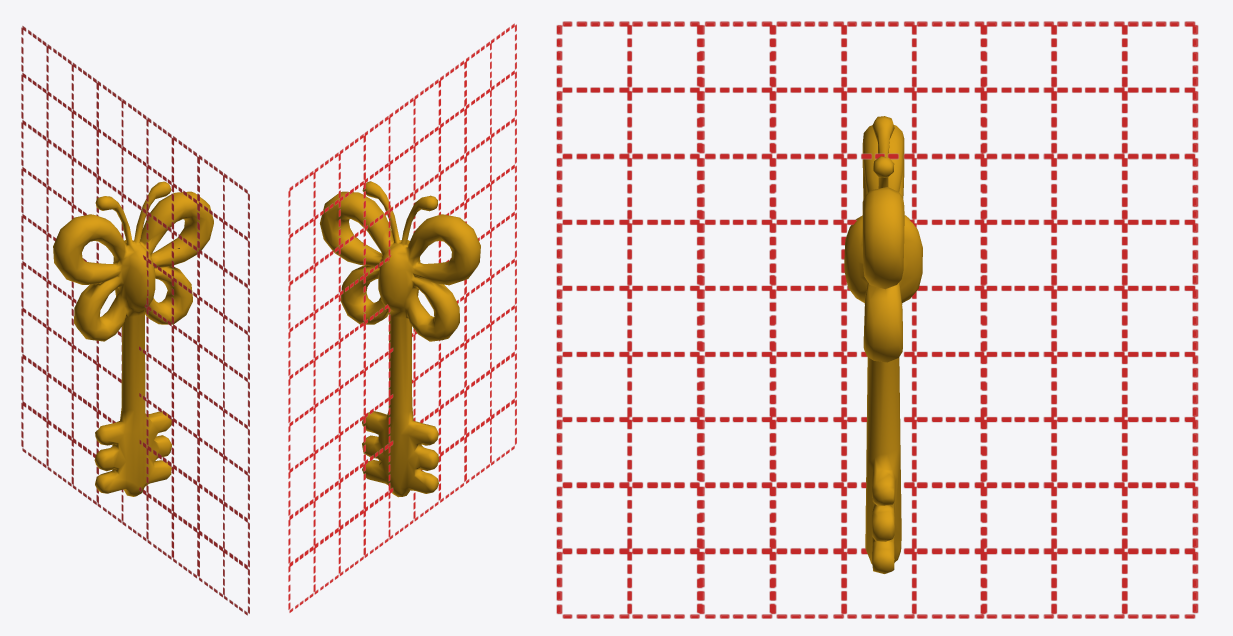
File: chave.glb
3 renders of one model, left to right at view 1: azimuth 30°, elevation 25°; view 2: azimuth 150°, elevation 25°; view 3: azimuth 270°, elevation 25°, orthographic. The views are drawn at different scales.
Visible parts, largest first — view 1: key_low, eixodesimetriachave; view 2: key_low, eixodesimetriachave; view 3: eixodesimetriachave, key_low.
Boxes of the visible parts, x1,y1,x2,y2 form: key_low: (53, 181, 213, 496); eixodesimetriachave: (21, 26, 249, 615); key_low: (320, 181, 480, 497); eixodesimetriachave: (288, 23, 516, 612); eixodesimetriachave: (556, 21, 1198, 618); key_low: (844, 116, 922, 573).
Bounding box in the file's own units: 1.92 × 5.11 × 5.11.
Materials: 2 (2 with a texture image).
